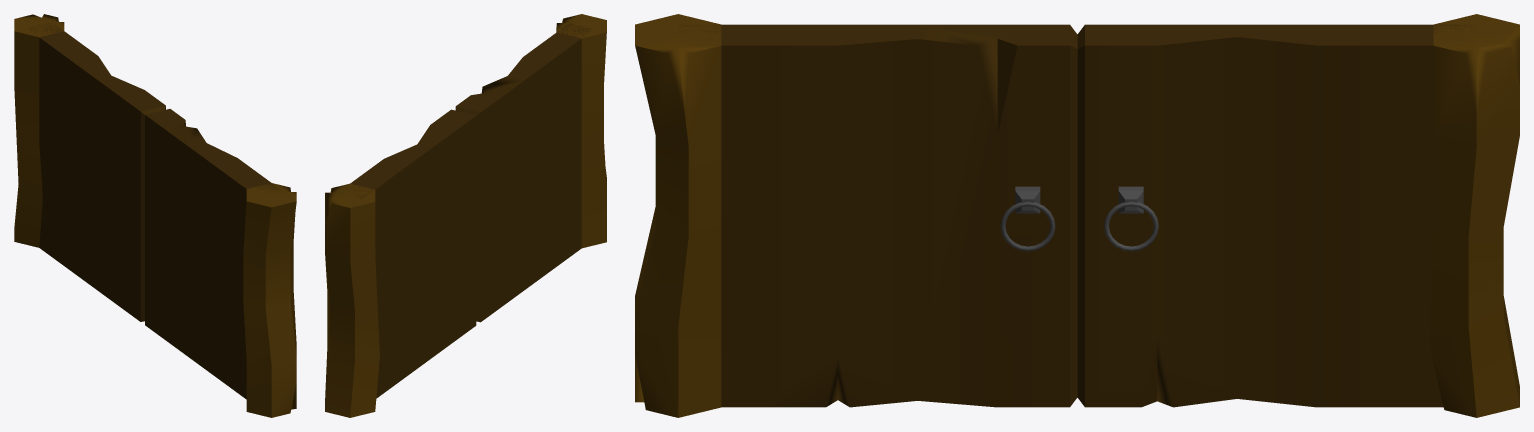
The model's file is BigDoor.fbx.
3 views of the same model, side by side, from view 1: azimuth 30°, elevation 25°; view 2: azimuth 150°, elevation 25°; view 3: azimuth 270°, elevation 25° (orthographic). The views are drawn at different scales.
Visible parts, largest first — view 1: Door2, Door1, Kolon1, Kolon2; view 2: Door1, Door2, Kolon2, Kolon1; view 3: Door1, Door2, Kolon2, Kolon1.
Boxes of the visible parts, left/top/right/bottom form: Door2: left=27, top=22, right=165, bottom=321; Door1: left=145, top=109, right=283, bottom=399; Kolon1: left=243, top=183, right=296, bottom=417; Kolon2: left=14, top=14, right=64, bottom=247; Door1: left=455, top=23, right=592, bottom=322; Door2: left=343, top=109, right=476, bottom=398; Kolon2: left=325, top=183, right=379, bottom=417; Kolon1: left=556, top=14, right=606, bottom=248; Door1: left=679, top=24, right=1077, bottom=407; Door2: left=1077, top=24, right=1476, bottom=407; Kolon2: left=1429, top=14, right=1519, bottom=417; Kolon1: left=635, top=14, right=721, bottom=417.
Size of the model in its own units: 20 by 80 by 177.
